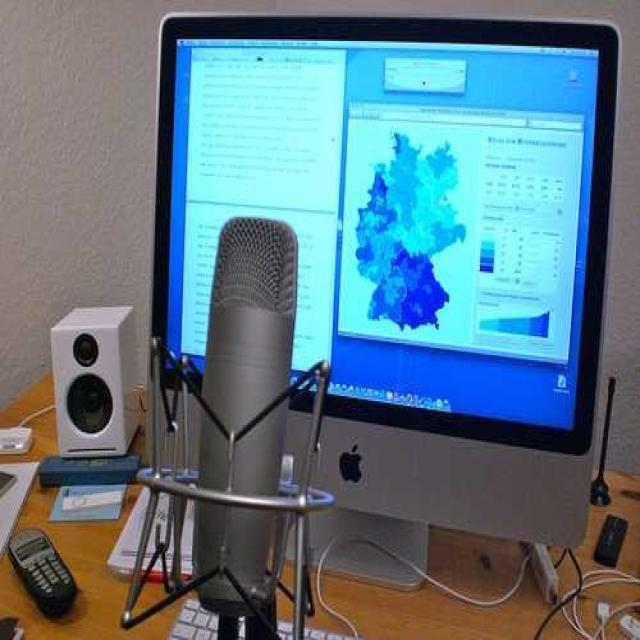microphone: (192, 219, 298, 630)
